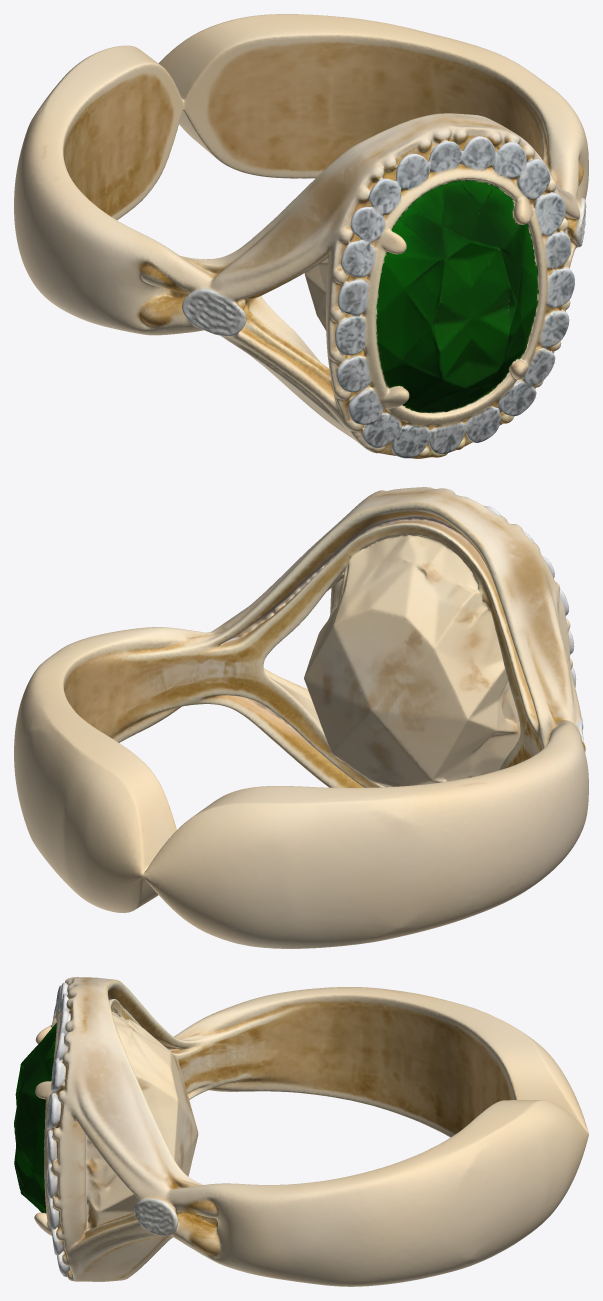
The picture shows the model from 3 angles, top to bottom: view 1: azimuth 30°, elevation 25°; view 2: azimuth 150°, elevation 25°; view 3: azimuth 270°, elevation 25°; orthographic projection. The views are drawn at different scales.
Bounding box in the file's own units: 0.8782 × 0.5411 × 0.992.
Materials: 1 (1 with a texture image).
